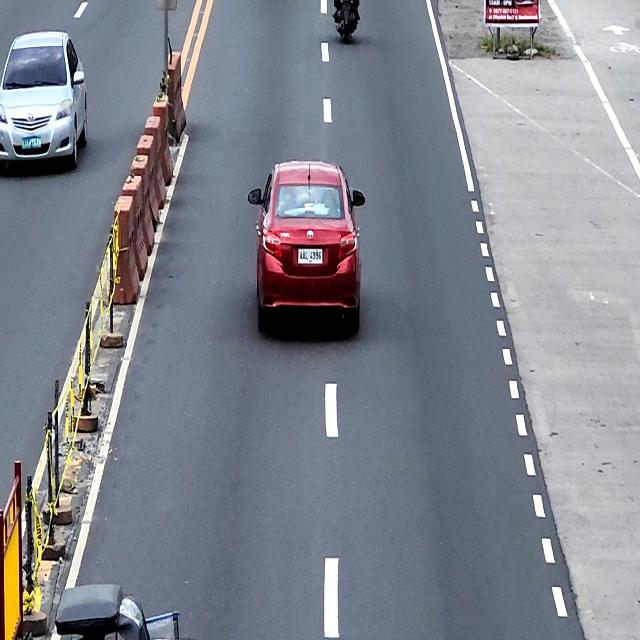Car: (247, 158, 365, 334), (0, 29, 87, 170)
License-Plate: (297, 246, 324, 264), (21, 134, 42, 149)
Motorcycle: (332, 0, 360, 43)
Tricycle: (54, 583, 182, 640)
